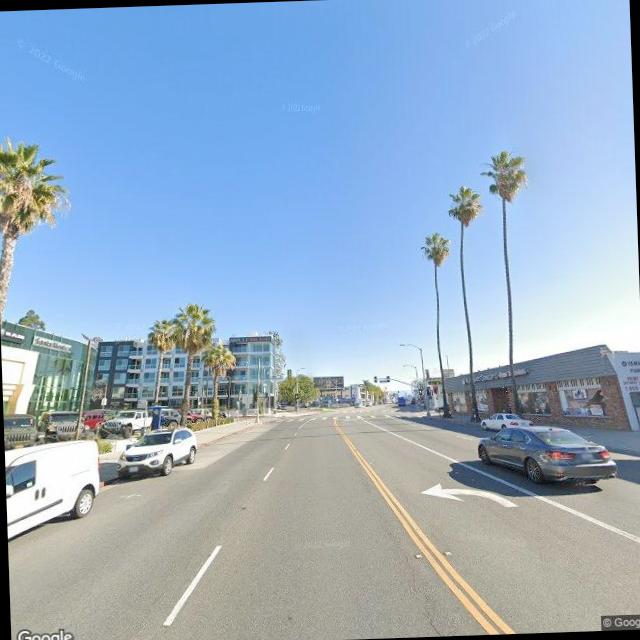pothole: (400, 548, 456, 634)
